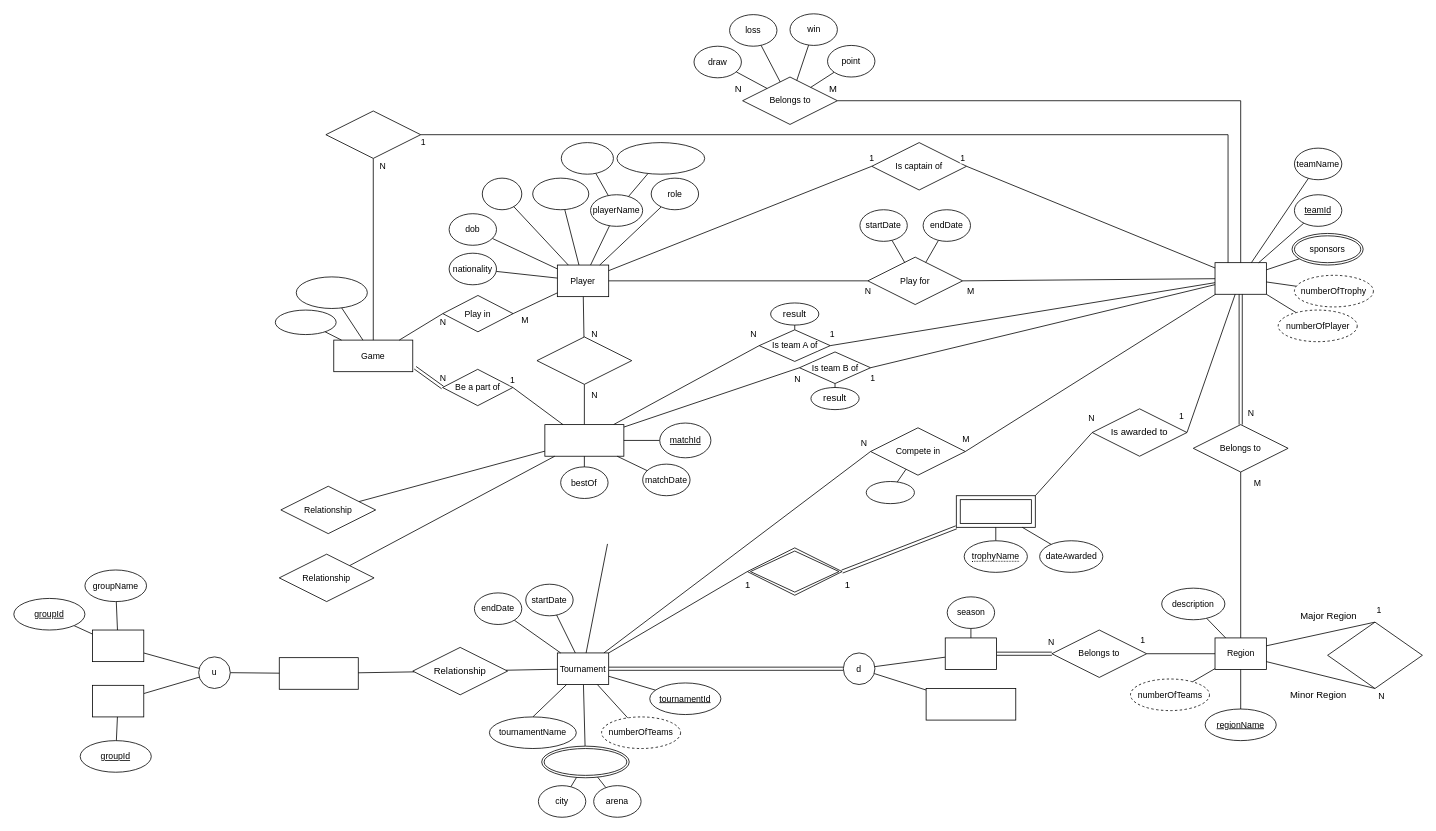
The diagram is 1436 pixels wide and 831 high, and some of its shapes have lost their labels. The shapes that lost their labels are listed below. From the top down, each one's centre as x and y in pixels, then its label:
At (x=373, y=134): "Win the game".
At (x=587, y=158): "first name".
At (x=660, y=158): "lastMiddleName".
At (x=502, y=193): "playerId".
At (x=560, y=193): "ingameName".
At (x=331, y=292): "gameId".
At (x=1240, y=278): "Team".
At (x=305, y=322): "gameNumber".
At (x=584, y=360): "Take part in".
At (x=584, y=440): "Match".
At (x=889, y=492): "rank".
At (x=995, y=511): "Trophy".
At (x=794, y=571): "Has".
At (x=118, y=645): "Group stage".
At (x=970, y=653): "Region Tournament".
At (x=1374, y=654): "Is parent region of".
At (x=318, y=673): "Stage".
At (x=118, y=701): "KO stage".
At (x=970, y=704): "International Tournament".
At (x=585, y=761): "competitionLocation".
